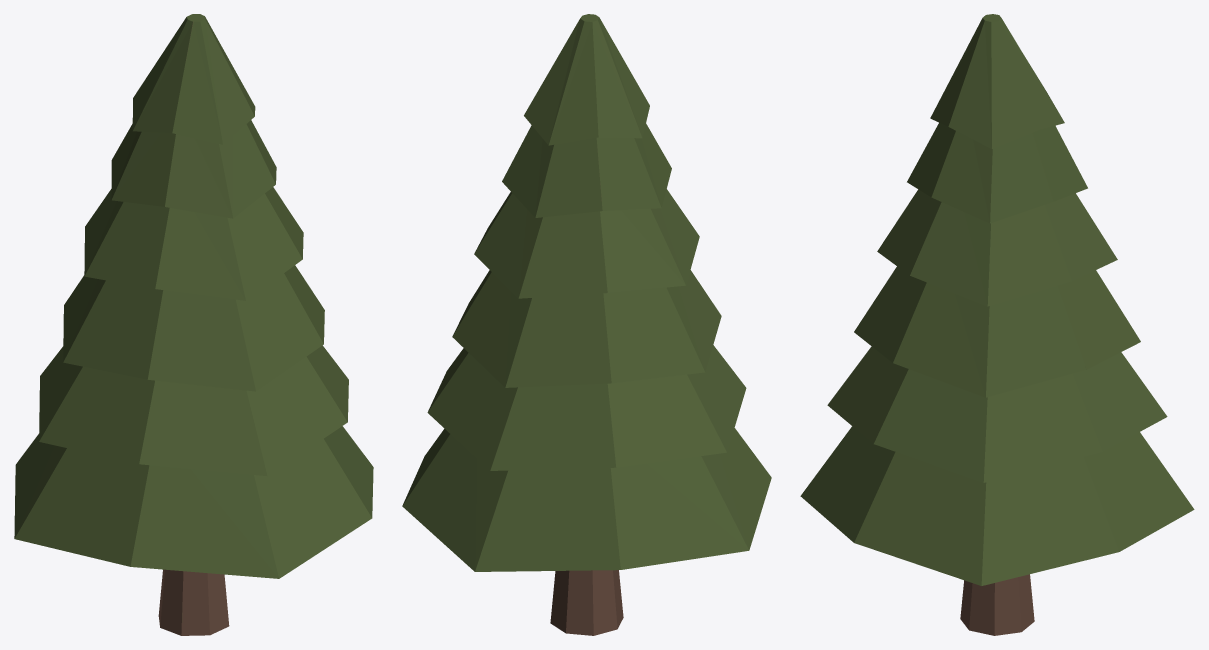
File: conifer_green_leaves.obj
The picture shows the model from 3 angles, left to right: view 1: azimuth 30°, elevation 25°; view 2: azimuth 150°, elevation 25°; view 3: azimuth 270°, elevation 25°; orthographic projection.
Parts seen in each view (by area): view 1: Conifer_green_leaves; view 2: Conifer_green_leaves; view 3: Conifer_green_leaves.
Part boxes in pixels (x1,y1,x2,y2): Conifer_green_leaves: (14, 14, 373, 635); Conifer_green_leaves: (402, 14, 771, 635); Conifer_green_leaves: (800, 14, 1194, 635).
Bounding box in the file's own units: 0.7361 × 1.24 × 0.7361.
1 material, 1 textured.
